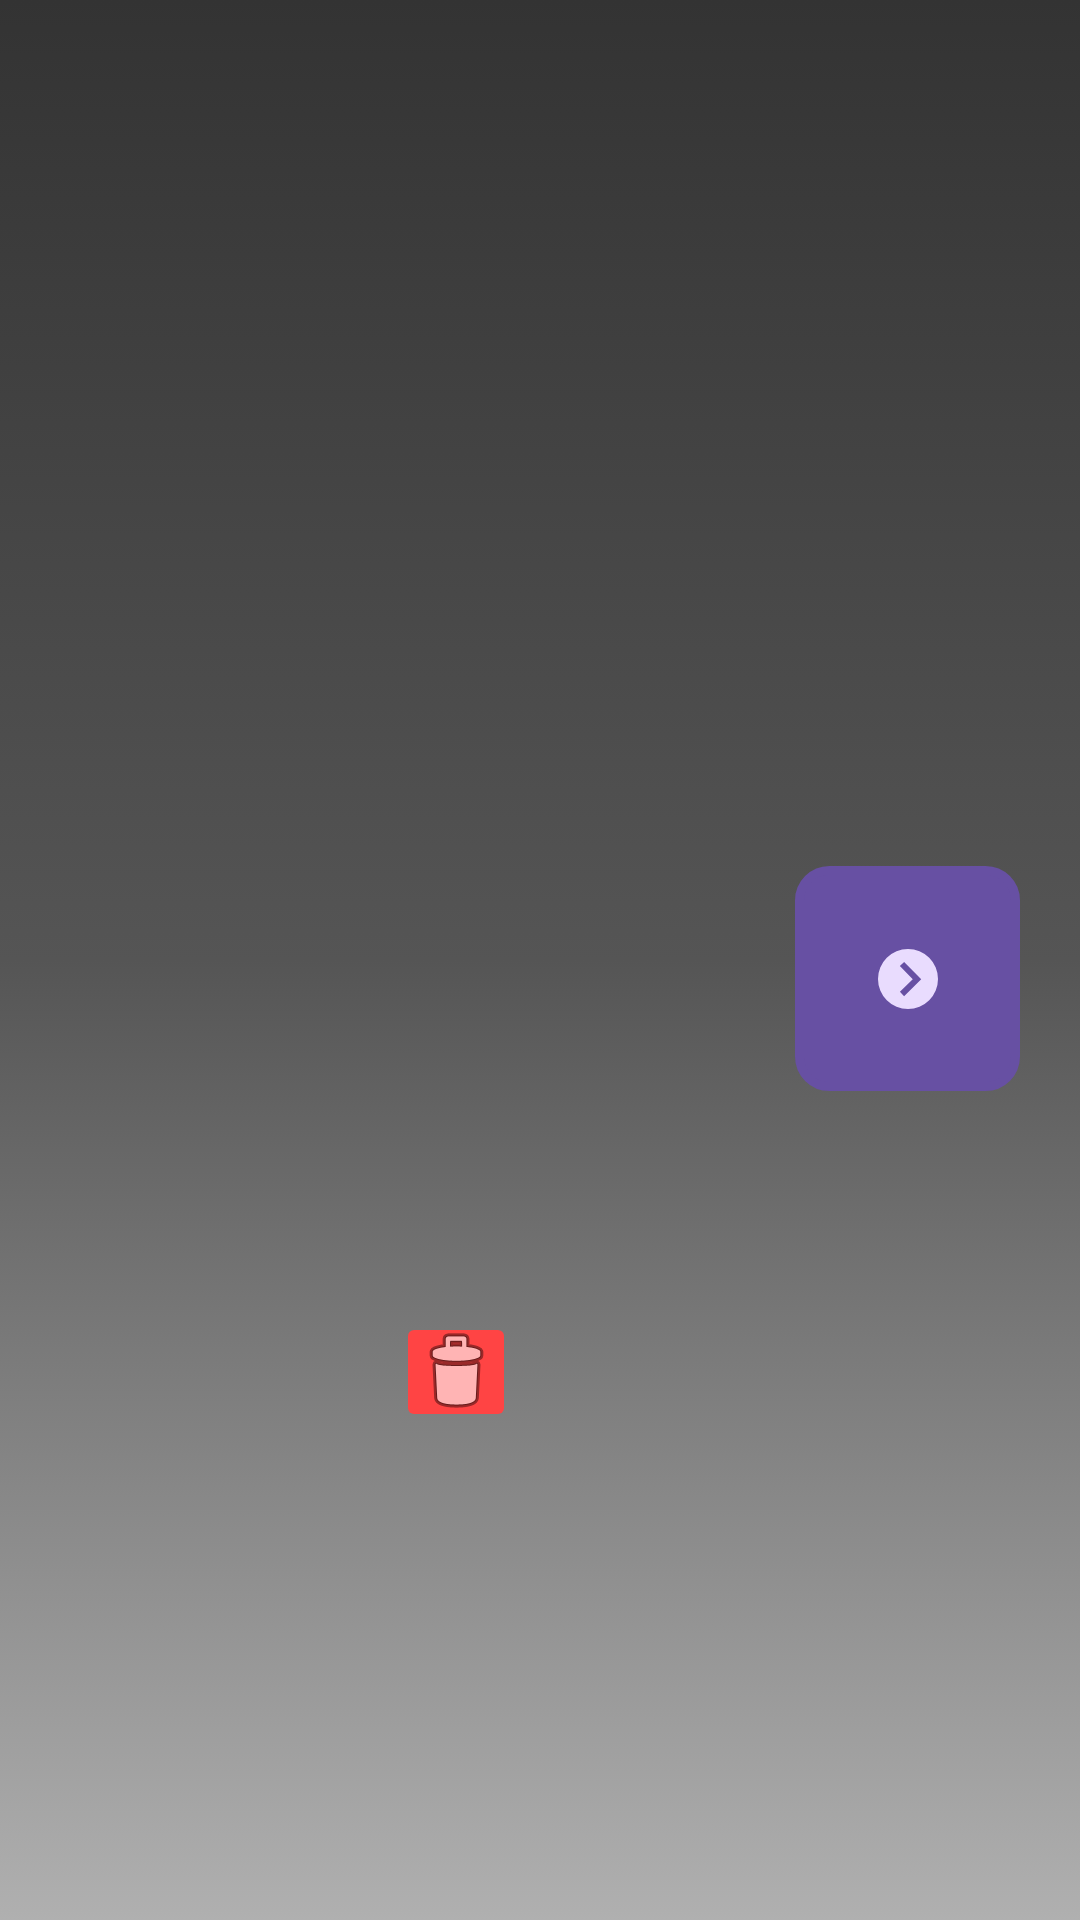

Screen size 1080*1920. Icon name, then its box in pixels as Rect(x1, y1, x2, y2):
arrow right: Rect(795, 866, 1020, 1091)
delete: Rect(408, 1330, 504, 1414)
